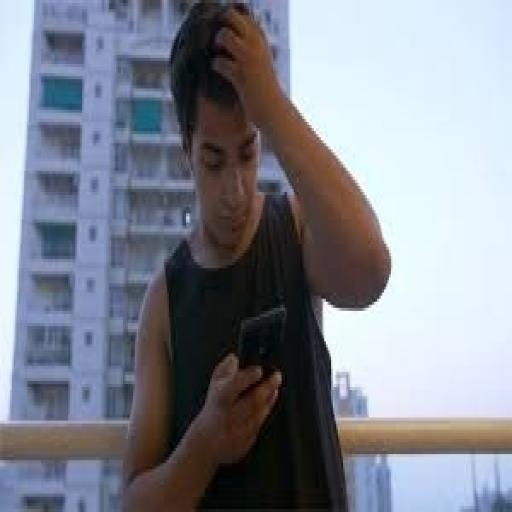texting: (116, 0, 393, 509)
